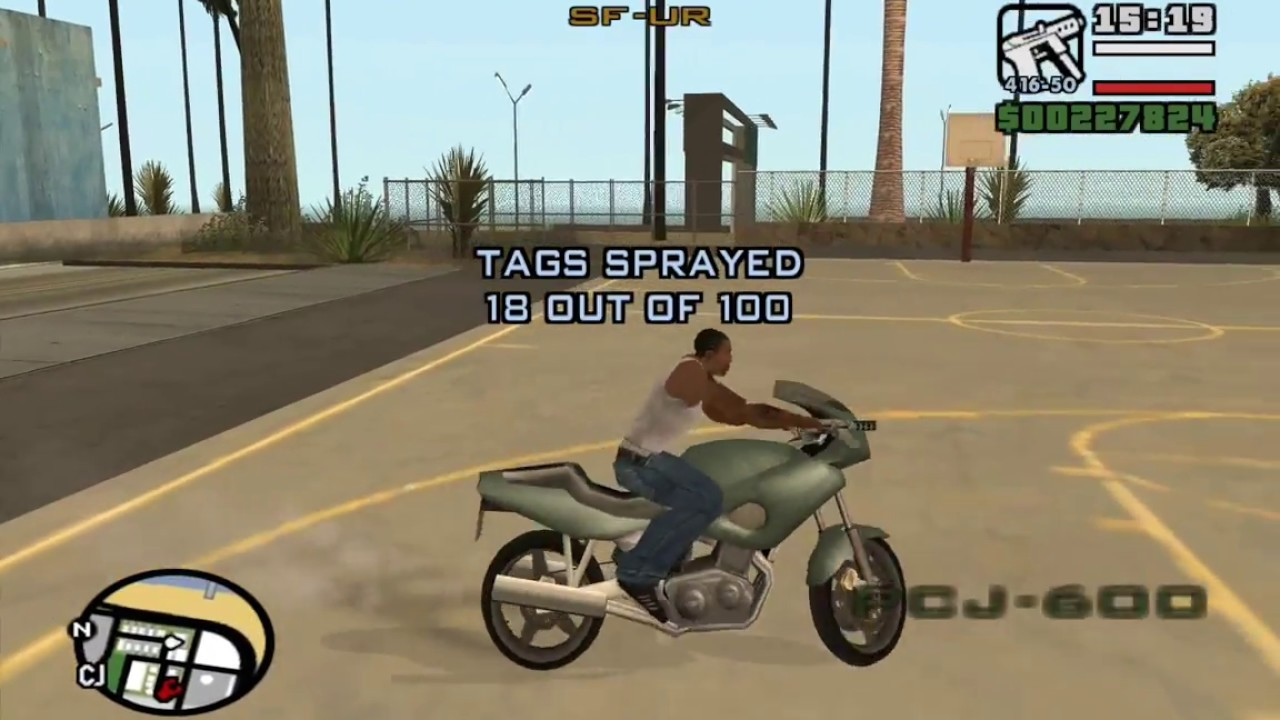bike: (474, 399, 913, 677)
